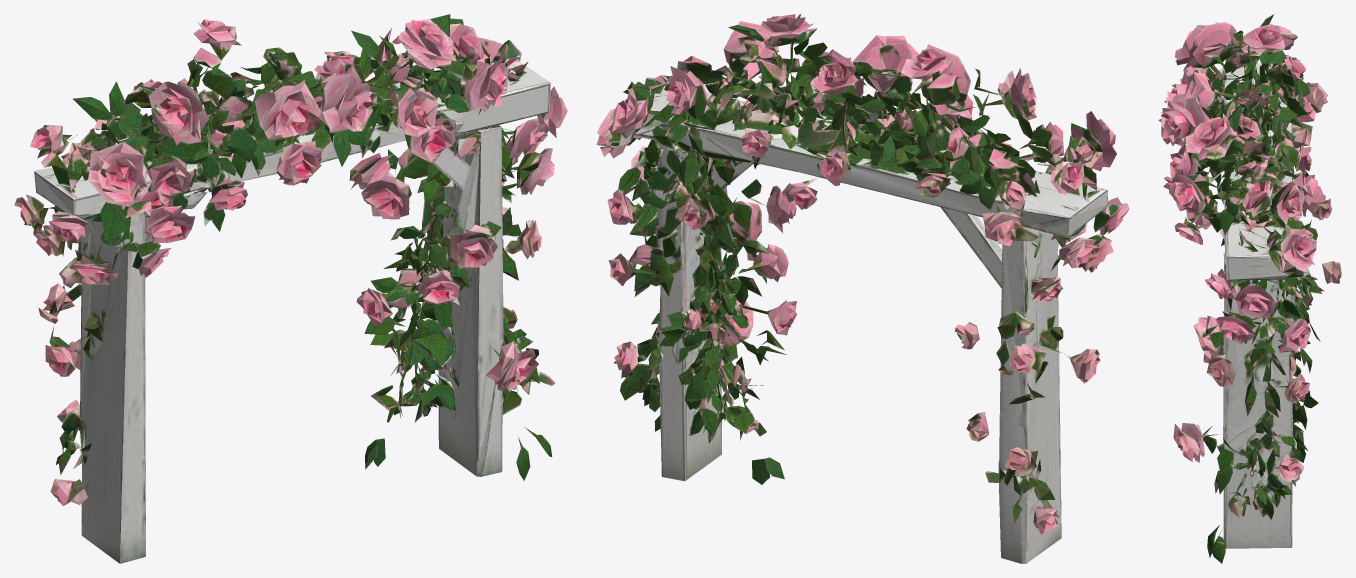
Rendered from rose_arch.glb.
3 renders of one model, left to right at view 1: azimuth 30°, elevation 25°; view 2: azimuth 150°, elevation 25°; view 3: azimuth 270°, elevation 25°, orthographic. The views are drawn at different scales.
Size of the model in its own units: 1.9 by 1.74 by 0.6913.
Materials: 1 (1 with a texture image).
